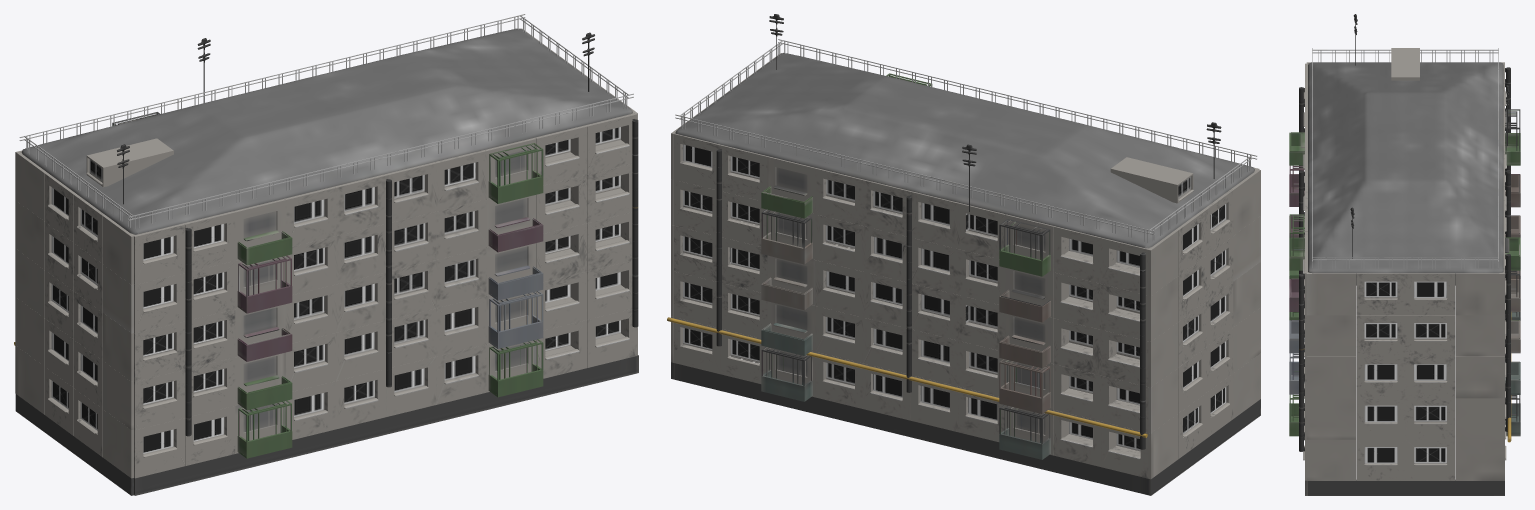
Rendered from khrushchevka_two-story_building.glb.
3 views of the same model, side by side, from view 1: azimuth 30°, elevation 25°; view 2: azimuth 150°, elevation 25°; view 3: azimuth 270°, elevation 25° (orthographic). The views are drawn at different scales.
Visible parts, largest first — view 1: Volume_Mesher_1, Cloner_10, Cloner_14, Cloner_12, Cloner_1, Cloner_11, Cloner_13, Cloner_2, Cube_3, Zabor, Cloner_15, Cloner (+2 smaller); view 2: Volume_Mesher_1, Cloner_2_2, Cloner_4, Cloner_6, Cloner_1, Cloner_3, Cloner_5, Cloner_2, Cube_1, Zabor, Cloner_9, Cloner (+4 smaller); view 3: Volume_Mesher_1, Cloner_8, Cloner_7, Cube_2, Cloner_11, Zabor, Cloner_5, Cloner_15, Cloner_9, Cloner_3, Cloner_13, Domik (+4 smaller).
Part boxes in pixels (x1=…): Volume_Mesher_1: x1=21, y1=28, x2=632, y2=234; Cloner_10: x1=284, y1=150, x2=486, y2=439; Cloner_14: x1=131, y1=211, x2=235, y2=478; Cloner_12: x1=535, y1=113, x2=637, y2=378; Cloner_1: x1=15, y1=151, x2=133, y2=478; Cloner_11: x1=485, y1=137, x2=543, y2=397; Cloner_13: x1=234, y1=199, x2=292, y2=458; Cloner_2: x1=44, y1=172, x2=104, y2=456; Cube_3: x1=134, y1=355, x2=638, y2=495; Zabor: x1=19, y1=14, x2=633, y2=229; Cloner_15: x1=185, y1=119, x2=638, y2=436; Cloner: x1=51, y1=187, x2=97, y2=430; Volume_Mesher_1: x1=675, y1=53, x2=1254, y2=248; Cloner_2_2: x1=815, y1=168, x2=1005, y2=441; Cloner_4: x1=1053, y1=226, x2=1151, y2=478; Cloner_6: x1=674, y1=133, x2=767, y2=383; Cloner_1: x1=1148, y1=169, x2=1260, y2=479; Cloner_3: x1=999, y1=214, x2=1053, y2=459; Cloner_5: x1=761, y1=156, x2=815, y2=401; Cloner_2: x1=1176, y1=189, x2=1233, y2=458; Cube_1: x1=673, y1=363, x2=1148, y2=494; Zabor: x1=675, y1=39, x2=1257, y2=243; Cloner_9: x1=716, y1=149, x2=1145, y2=449; Cloner: x1=1183, y1=204, x2=1226, y2=433; Volume_Mesher_1: x1=1308, y1=62, x2=1503, y2=275; Cloner_8: x1=1356, y1=273, x2=1455, y2=480; Cloner_7: x1=1306, y1=273, x2=1504, y2=480; Cube_2: x1=1308, y1=480, x2=1504, y2=495; Cloner_11: x1=1289, y1=210, x2=1307, y2=436; Zabor: x1=1312, y1=48, x2=1498, y2=269; Cloner_5: x1=1503, y1=210, x2=1520, y2=436; Cloner_15: x1=1299, y1=87, x2=1304, y2=451; Cloner_9: x1=1505, y1=67, x2=1510, y2=431; Cloner_3: x1=1503, y1=105, x2=1520, y2=320; Cloner_13: x1=1289, y1=105, x2=1307, y2=320; Domik: x1=1391, y1=48, x2=1419, y2=80.
Bounding box in the file's own units: 14.02 × 8.5 × 6.4.
1 material, 1 textured.
